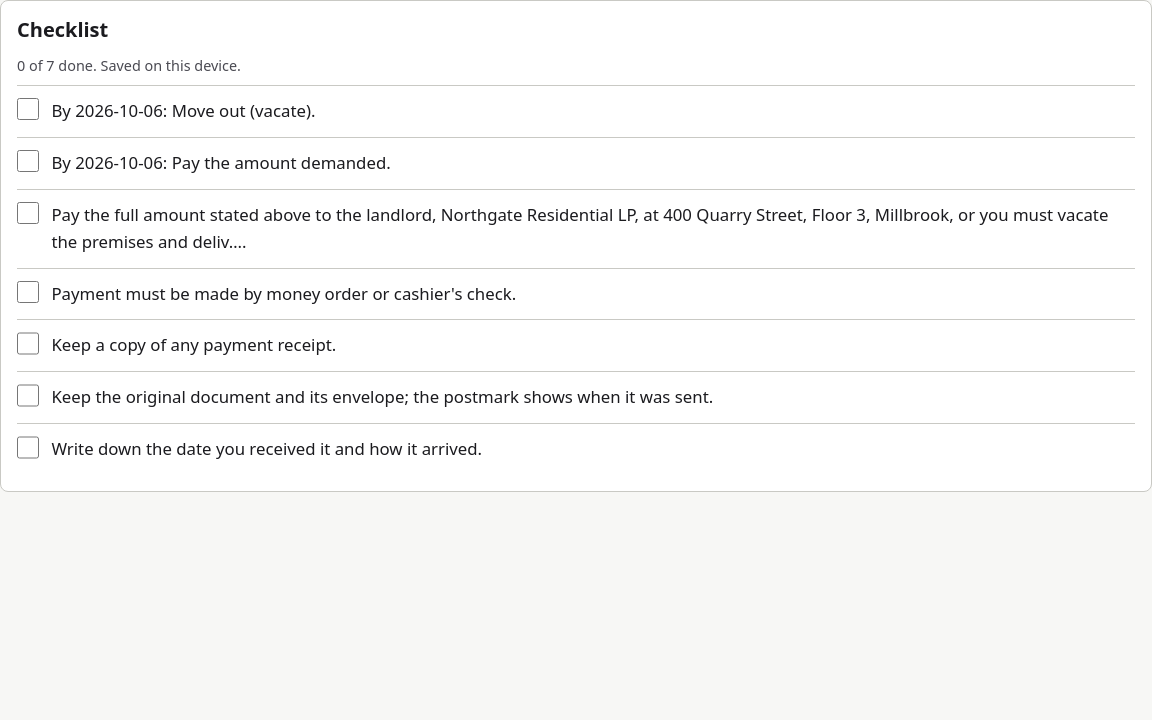
it: Checklist › ignores corrupt or unavailable storage
The width and height of the screenshot is (1152, 720).
Click the checkbox labelled "By 2026-10-06: Move out (vacate).": (28, 109) [17,98,39,120]
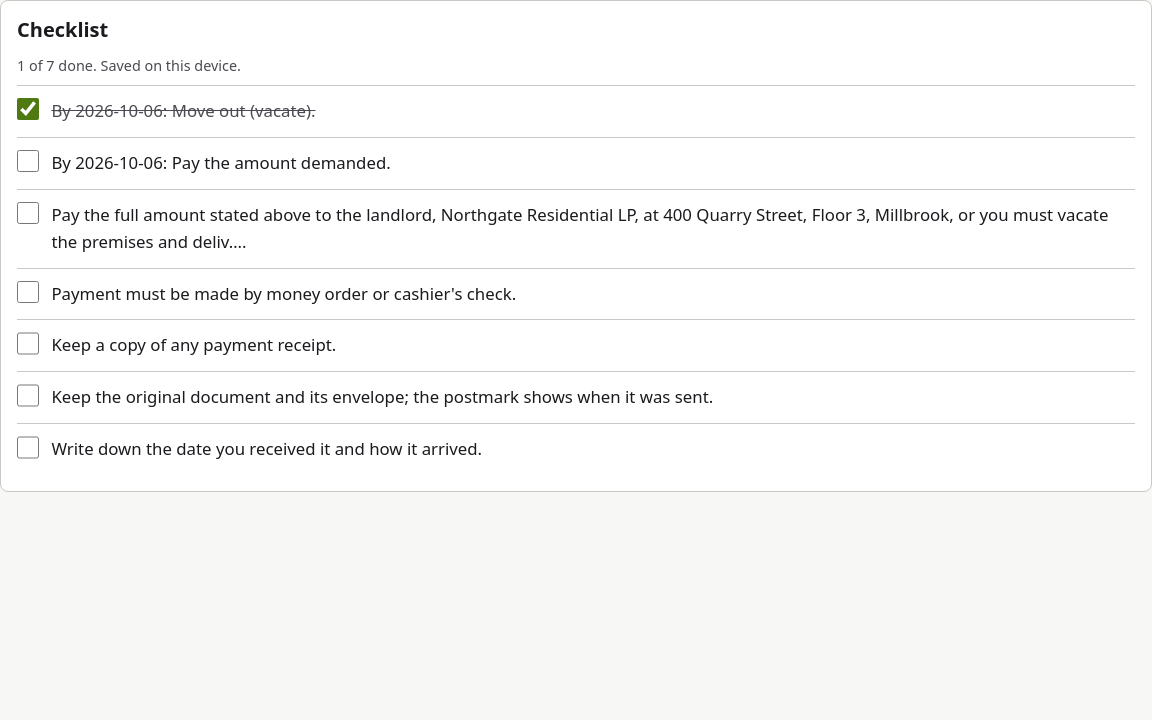
Now the text "1 of 7 done." is shown, box [17,56,97,75]
